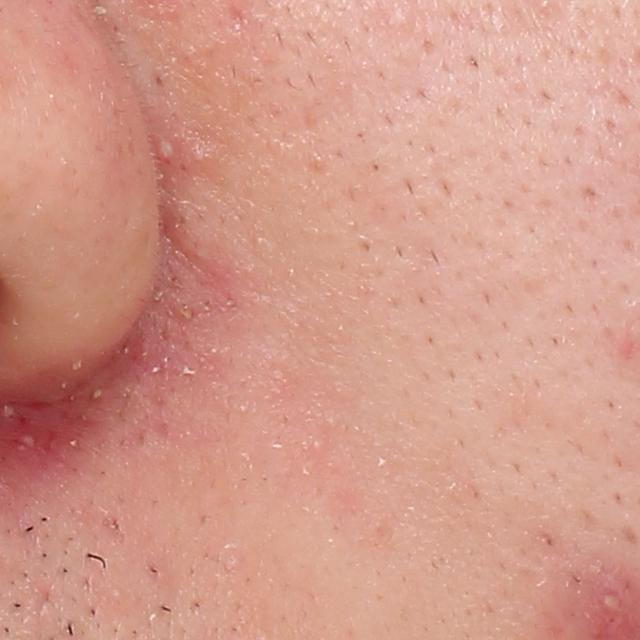pustule: (153, 138, 176, 162)
